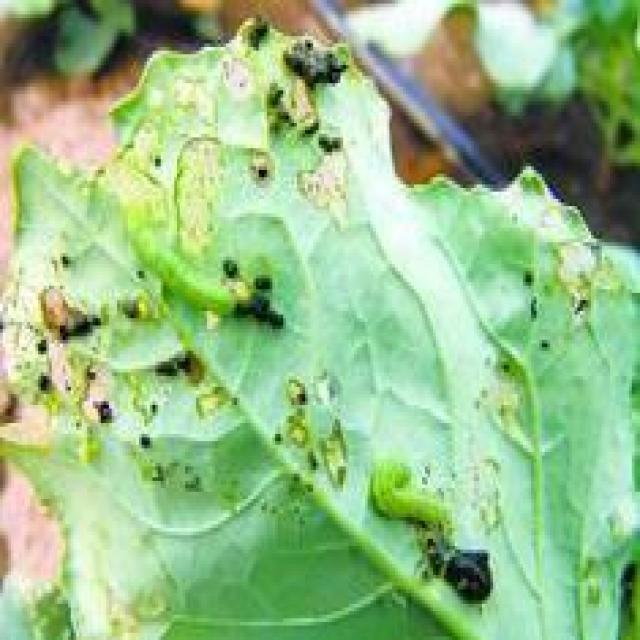BeetArmyWorm-Larva-: (117, 195, 240, 328), (365, 437, 455, 541)
